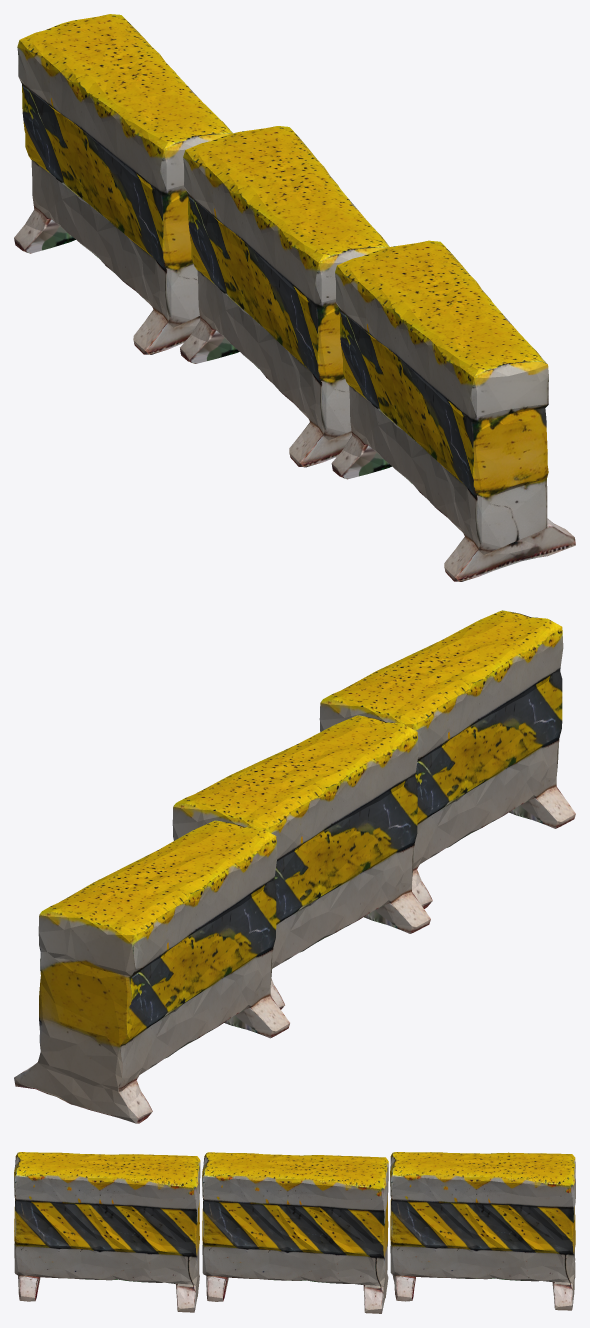
File: fence_concrete.glb
The picture shows the model from 3 angles, top to bottom: view 1: azimuth 30°, elevation 25°; view 2: azimuth 150°, elevation 25°; view 3: azimuth 270°, elevation 25°; orthographic projection. The views are drawn at different scales.
Visible parts, largest first — view 1: temp_mesh.ply (×3); view 2: temp_mesh.ply (×3); view 3: temp_mesh.ply (×3).
Boxes of the visible parts, x1=… form: temp_mesh.ply (×3): x1=14, y1=14, x2=575, y2=581; temp_mesh.ply (×3): x1=14, y1=610, x2=575, y2=1123; temp_mesh.ply (×3): x1=14, y1=1152, x2=575, y2=1313.
Bounding box in the file's own units: 1.21 × 1.49 × 5.95.
Materials: 1 (1 with a texture image).
